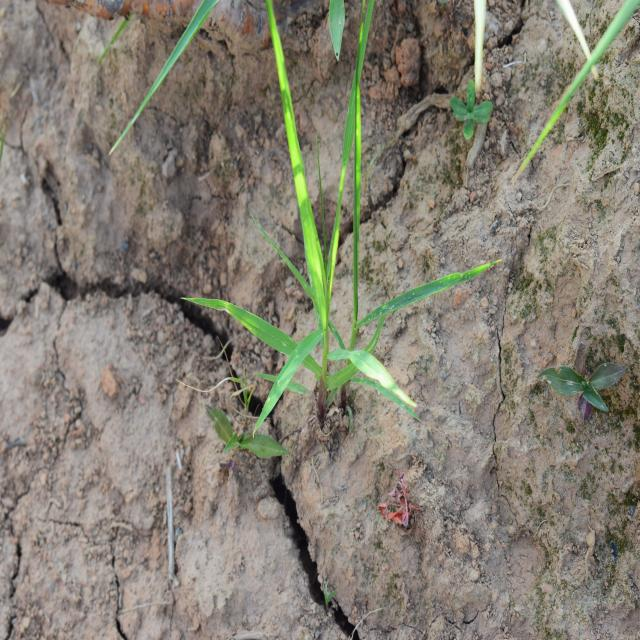green_foxtail: (242, 65, 436, 419)
